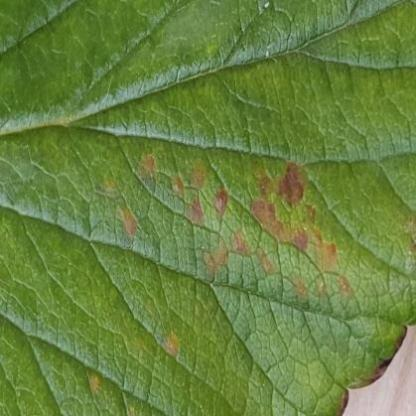Strawberry_Angular_LeafSpot: (79, 148, 360, 399)
